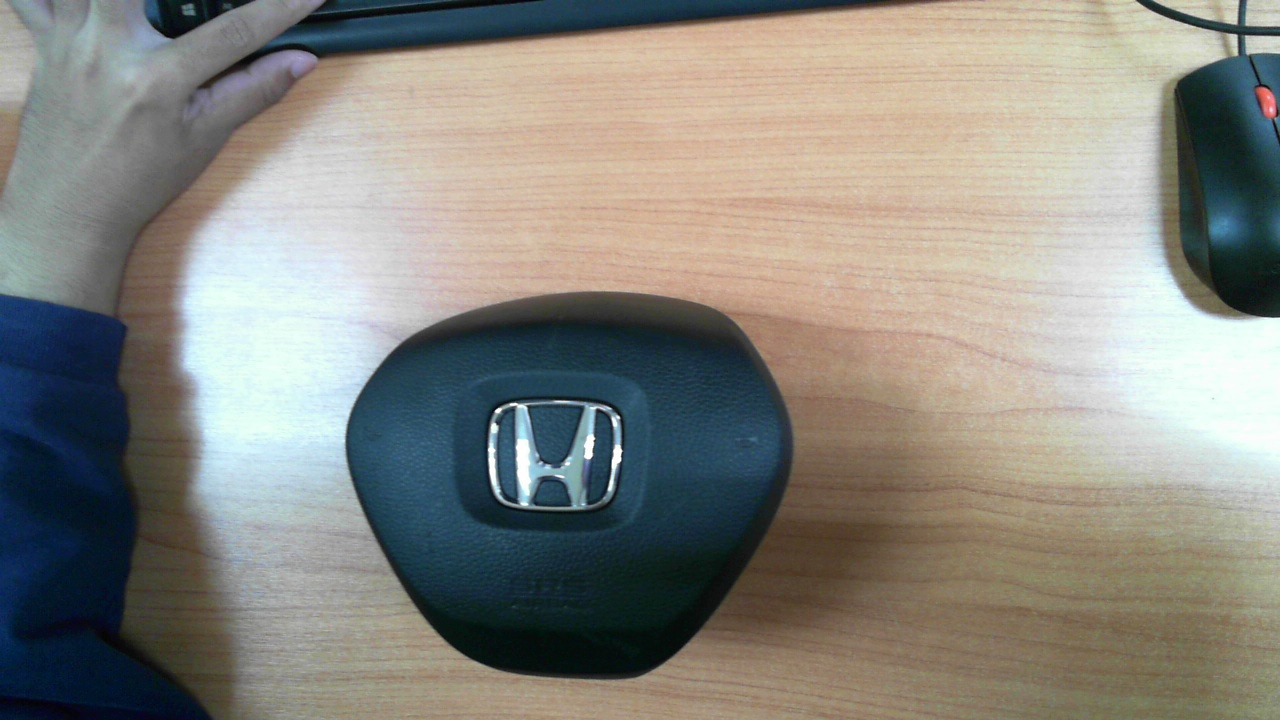Airbag: (345, 291, 792, 680)
